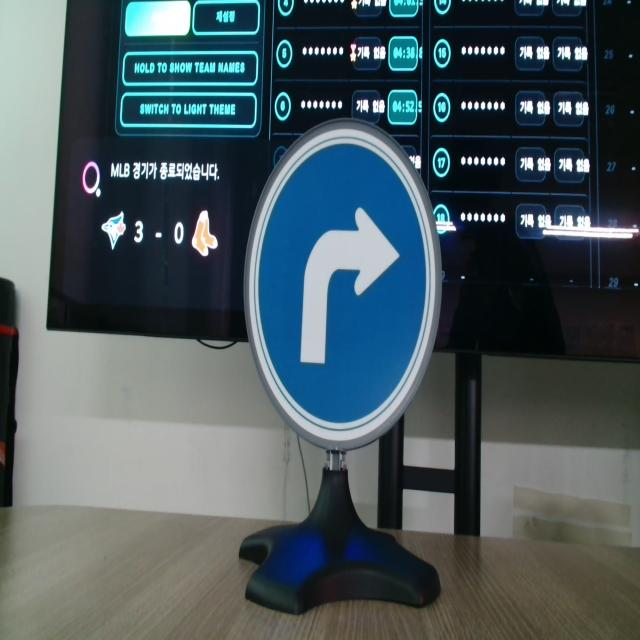right_dierection: (246, 110, 448, 464)
